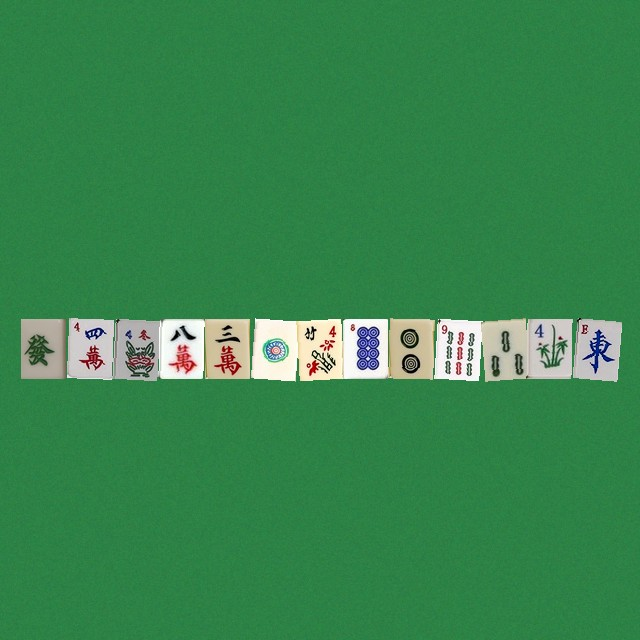tile: (20, 318, 65, 378), (66, 318, 111, 378), (112, 318, 157, 378), (158, 318, 203, 378), (204, 318, 249, 378), (250, 318, 295, 378), (296, 318, 341, 378), (342, 318, 387, 378), (388, 318, 433, 378), (434, 318, 479, 378), (480, 318, 525, 378), (526, 318, 571, 378), (572, 318, 617, 378)
